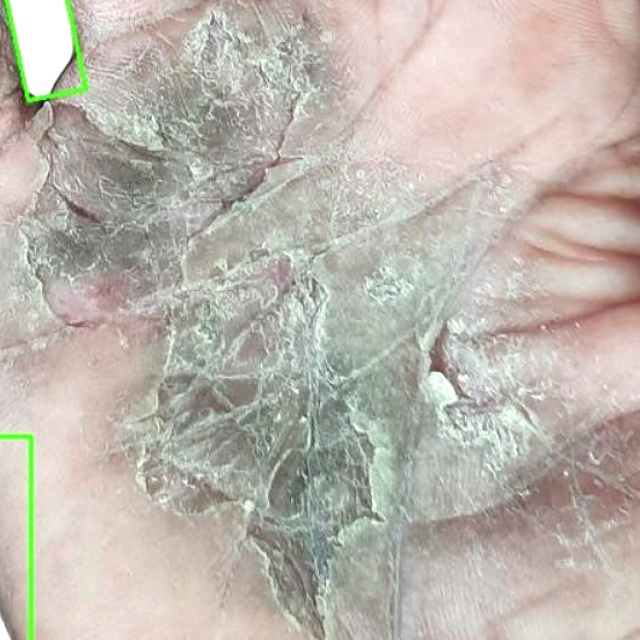Contact Dermatitis: (6, 0, 85, 100)
